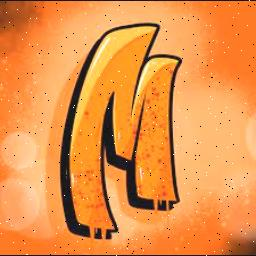m: (54, 18, 190, 244)
